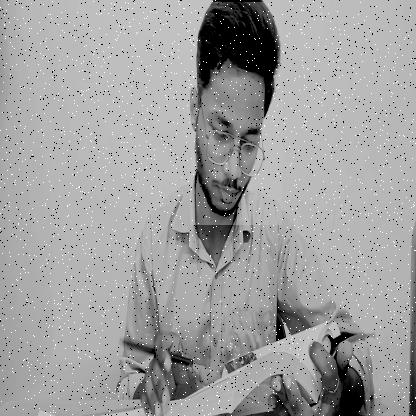Distracted: (190, 2, 282, 225)
